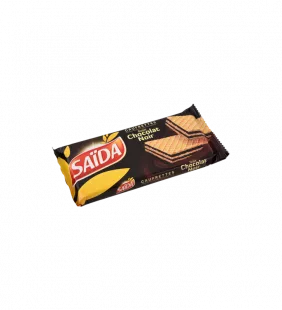SAIDA: (45, 94, 235, 212)
